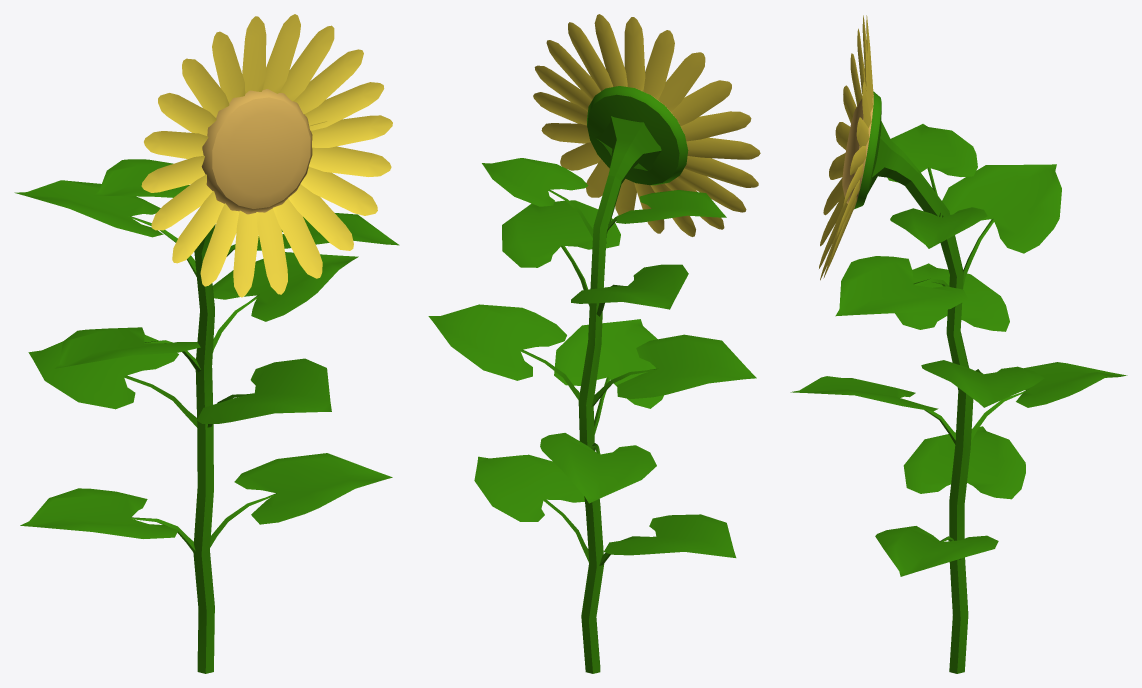
Rendered from sunflower_fix.fbx.
3 renders of one model, left to right at view 1: azimuth 30°, elevation 25°; view 2: azimuth 150°, elevation 25°; view 3: azimuth 270°, elevation 25°, orthographic. The views are drawn at different scales.
Parts seen in each view (by area): view 1: polySurface441, polySurface391, polySurface397, polySurface408, polySurface423, polySurface171; view 2: polySurface441, polySurface423, polySurface408, polySurface391, polySurface397, polySurface171; view 3: polySurface423, polySurface391, polySurface441, polySurface171, polySurface408, polySurface397.
Part boxes in pixels (left/top/right/bottom): polySurface441: left=141, top=14, right=392, bottom=297; polySurface391: left=20, top=453, right=392, bottom=551; polySurface397: left=28, top=335, right=331, bottom=427; polySurface408: left=55, top=252, right=358, bottom=372; polySurface423: left=14, top=159, right=399, bottom=276; polySurface171: left=193, top=224, right=215, bottom=673; polySurface441: left=533, top=14, right=760, bottom=236; polySurface423: left=482, top=158, right=726, bottom=316; polySurface408: left=428, top=304, right=756, bottom=406; polySurface391: left=474, top=454, right=736, bottom=565; polySurface397: left=540, top=319, right=663, bottom=503; polySurface171: left=578, top=175, right=621, bottom=673; polySurface423: left=835, top=124, right=1061, bottom=316; polySurface391: left=875, top=426, right=1025, bottom=576; polySurface441: left=819, top=15, right=918, bottom=280; polySurface171: left=905, top=170, right=973, bottom=673; polySurface408: left=895, top=263, right=1044, bottom=407; polySurface397: left=790, top=362, right=1127, bottom=444.
Size of the model in its own units: 67.25 by 130 by 61.75.
